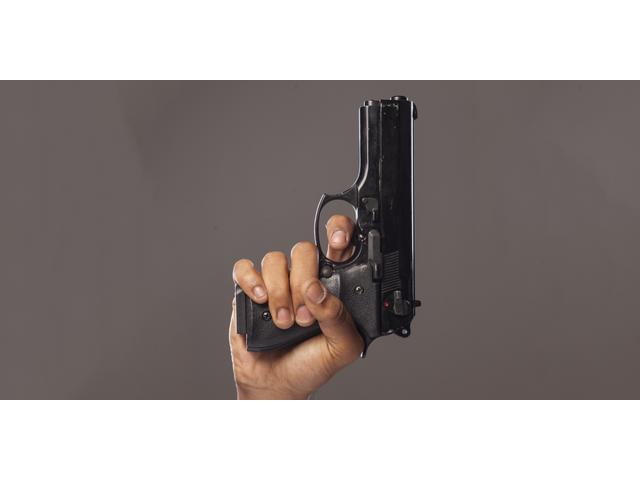pistol: (232, 92, 421, 360)
